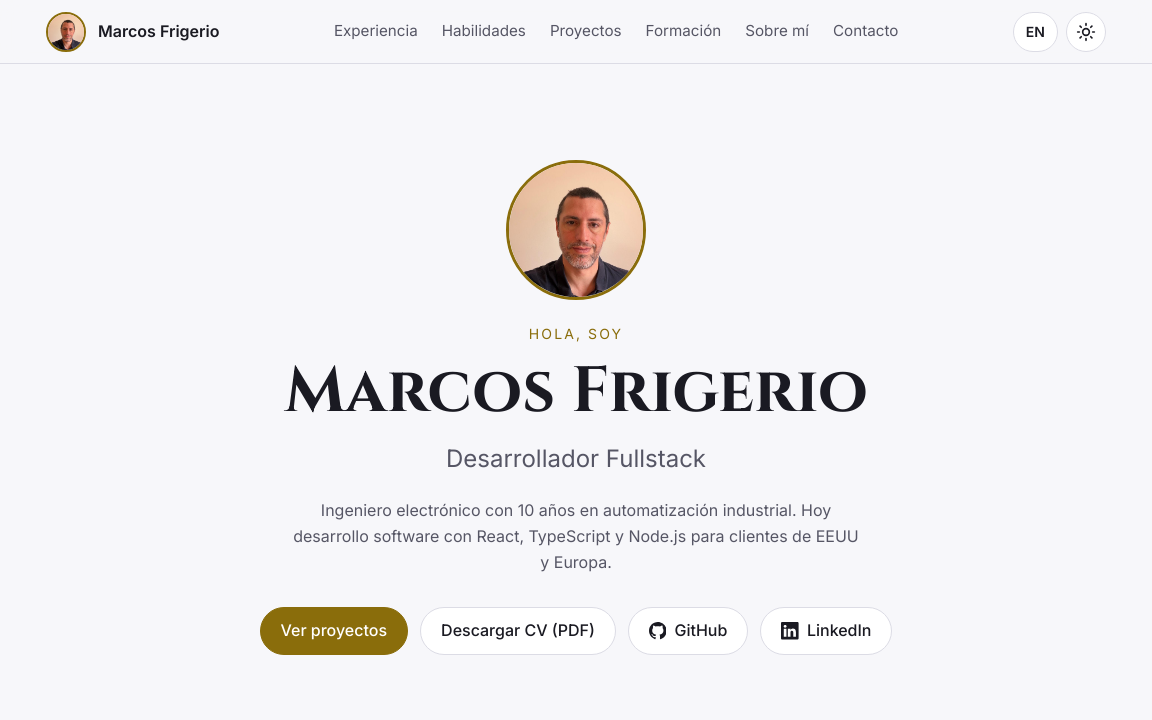
it: contenido del CV › traduce la experiencia al ingles
This screenshot has width=1152, height=720.
Step 1. Click the button with aria-label "Cambiar idioma a inglés" → (1035, 32), box top-left (1013, 12), bottom-right (1058, 52)
(page scrolled)
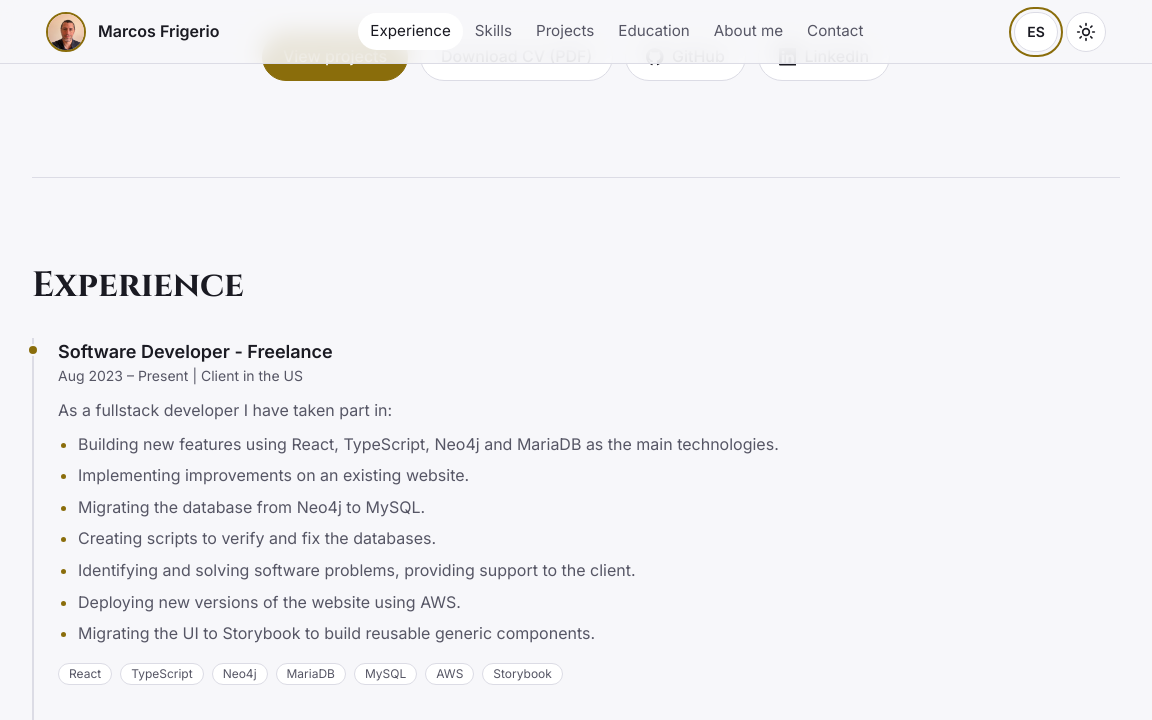
expect the text "Aug 2023 – Present | Client in the US" is shown: met, box top-left (58, 367), bottom-right (303, 384)
